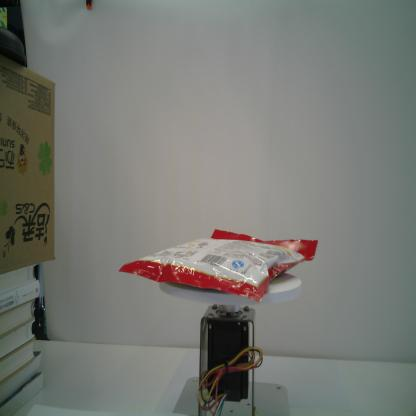Instant Drink: (119, 228, 318, 304)
